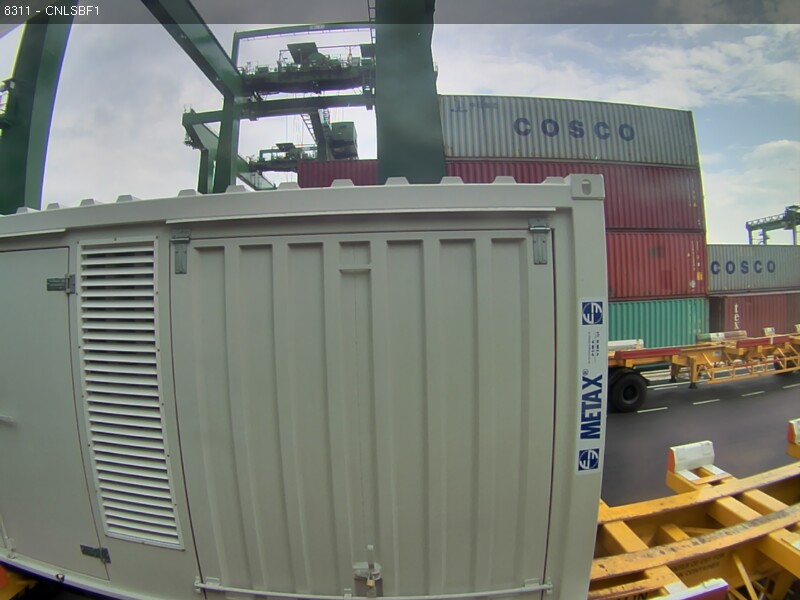container_no_door: (195, 159, 614, 560)
